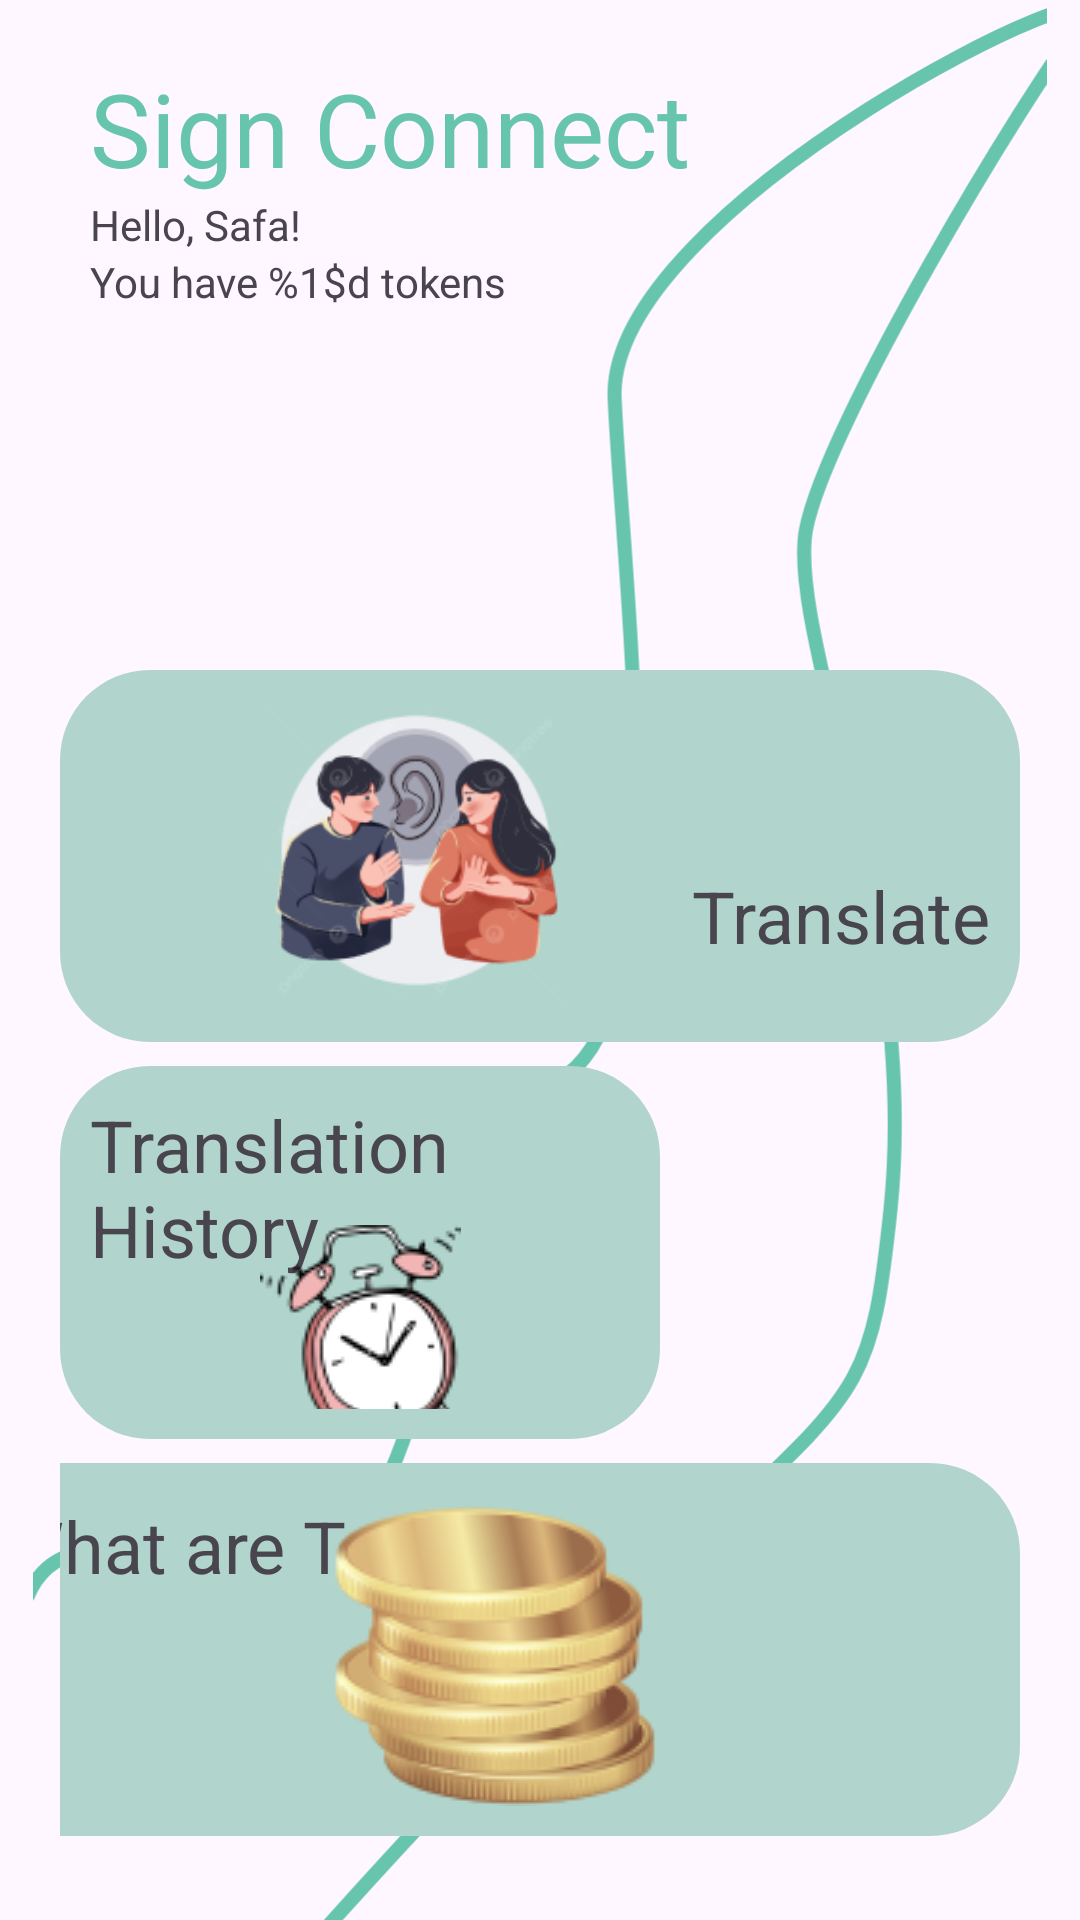

Screen size 1080px x 1920px. Icon name, then its box in pixels as region(x1, y1, x2, y2):
clock: region(260, 1225, 461, 1409)
coins: region(336, 1508, 655, 1804)
deaf: region(276, 715, 558, 985)
